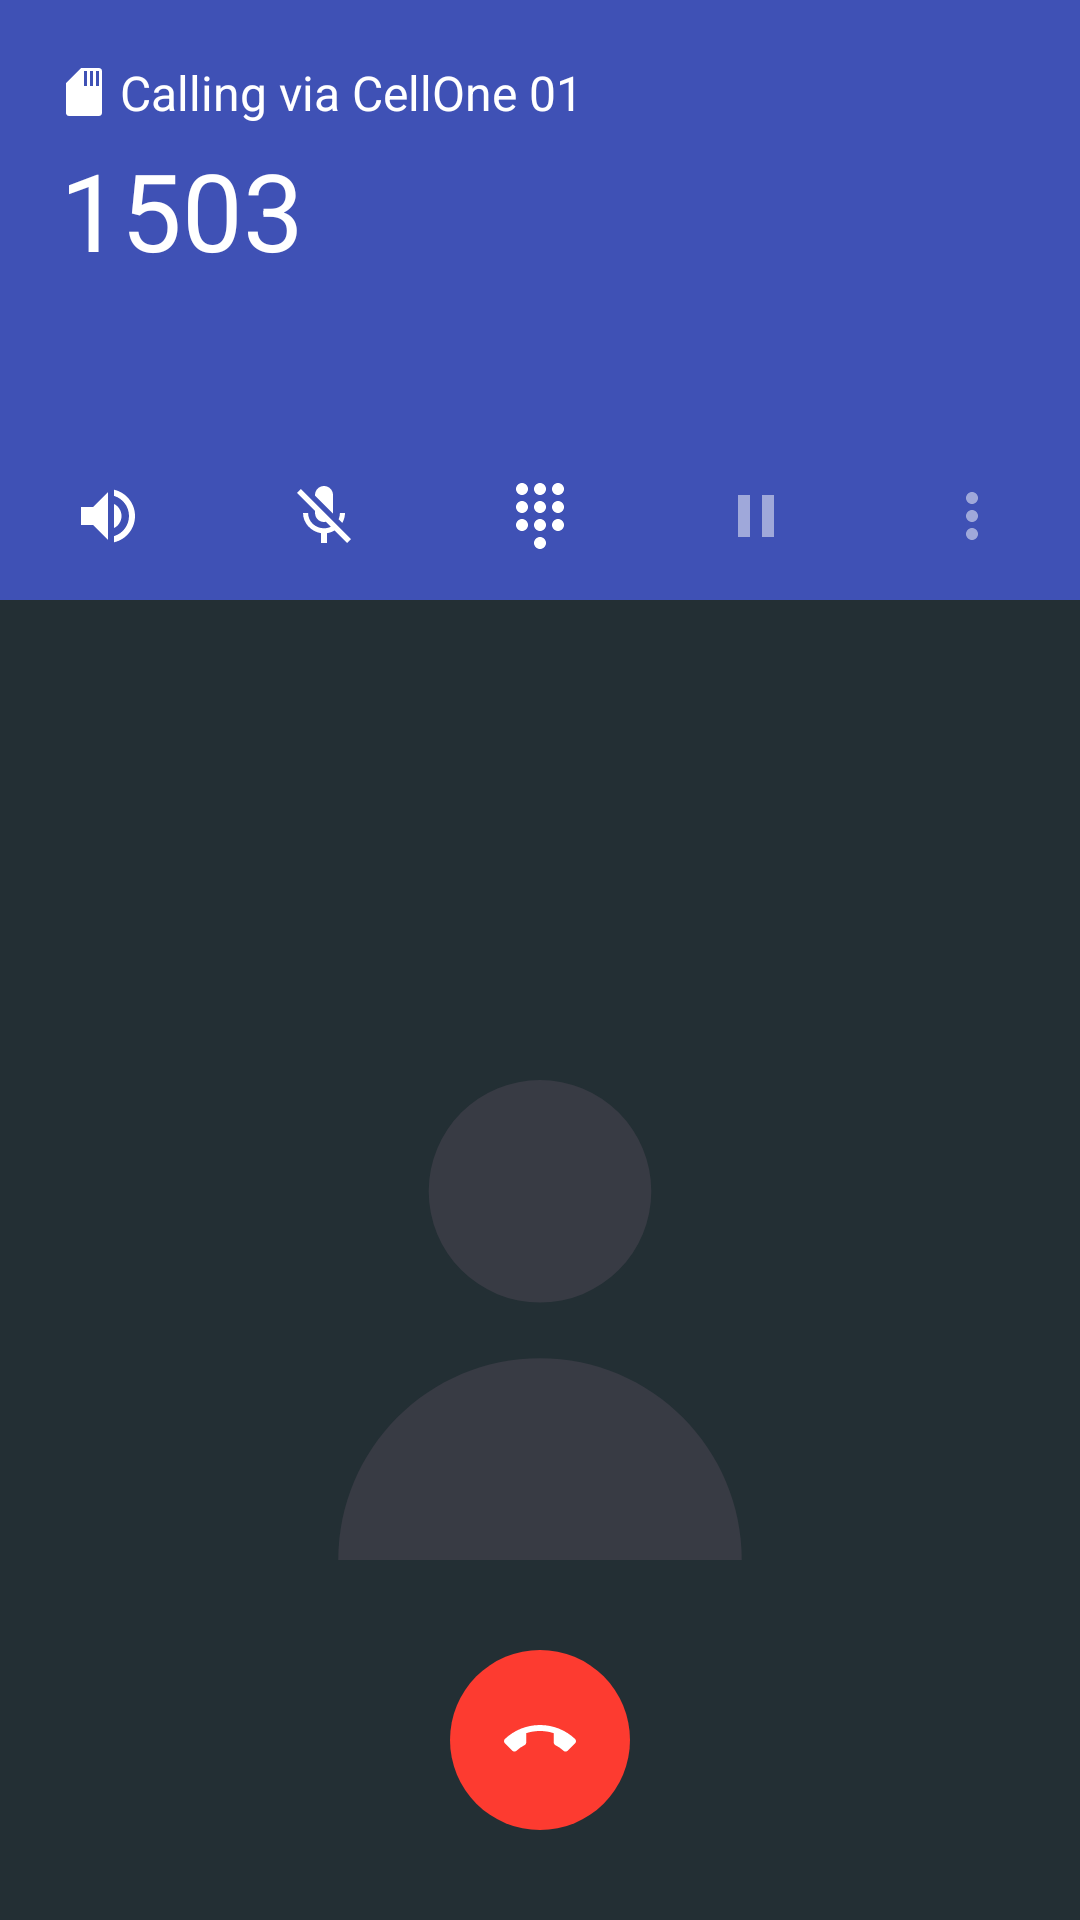

Icons on this 1080px×1920px Android screen, each with the point to tap as point (x, y):
call end: point (540, 1740)
dialpad: point (540, 516)
mic off: point (324, 514)
more: point (972, 516)
pause: point (756, 516)
volume up: point (108, 516)
